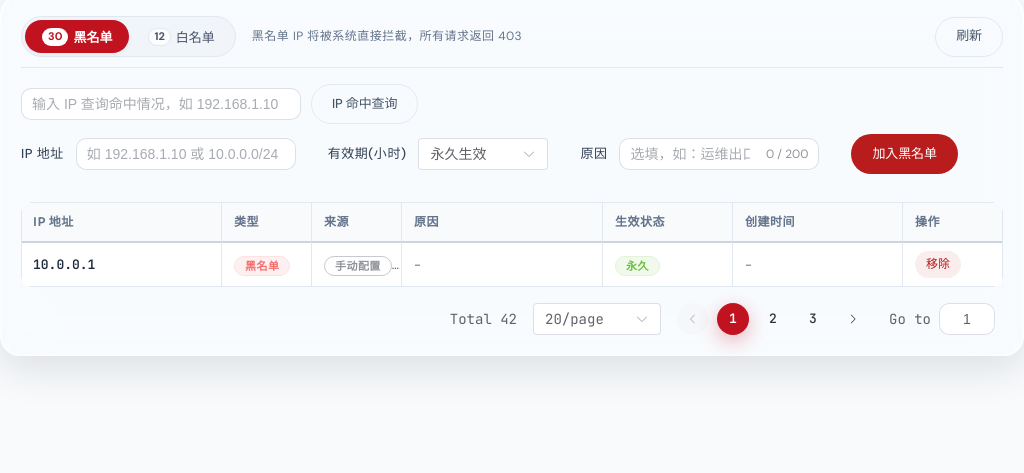
Test: IpListView 列表加载与渲染 › 列表加载失败：提示「加载失败」、清空列表与总数并显示空态
Click the button "刷新".
click(969, 36)  # box 935,16 -> 1003,56
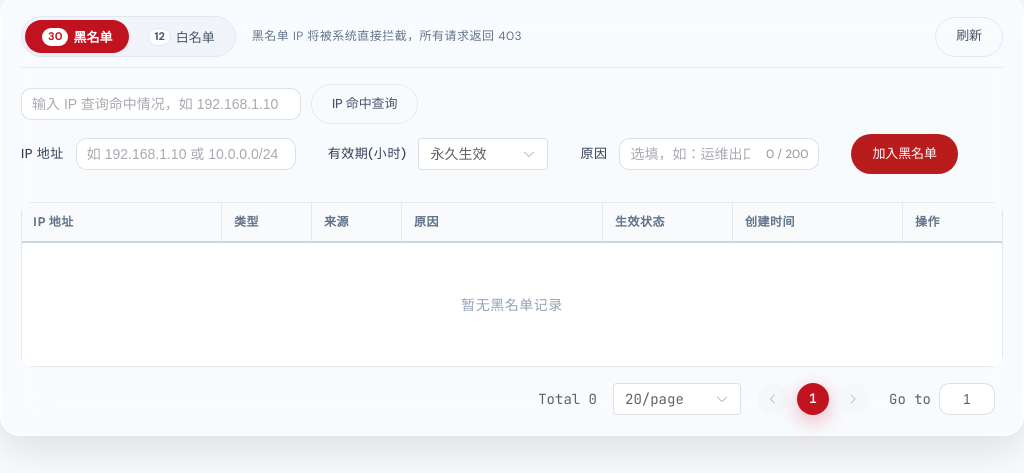
Expected: the text with class "empty-tip" reads "暂无黑名单记录", 461,296 -> 563,314
